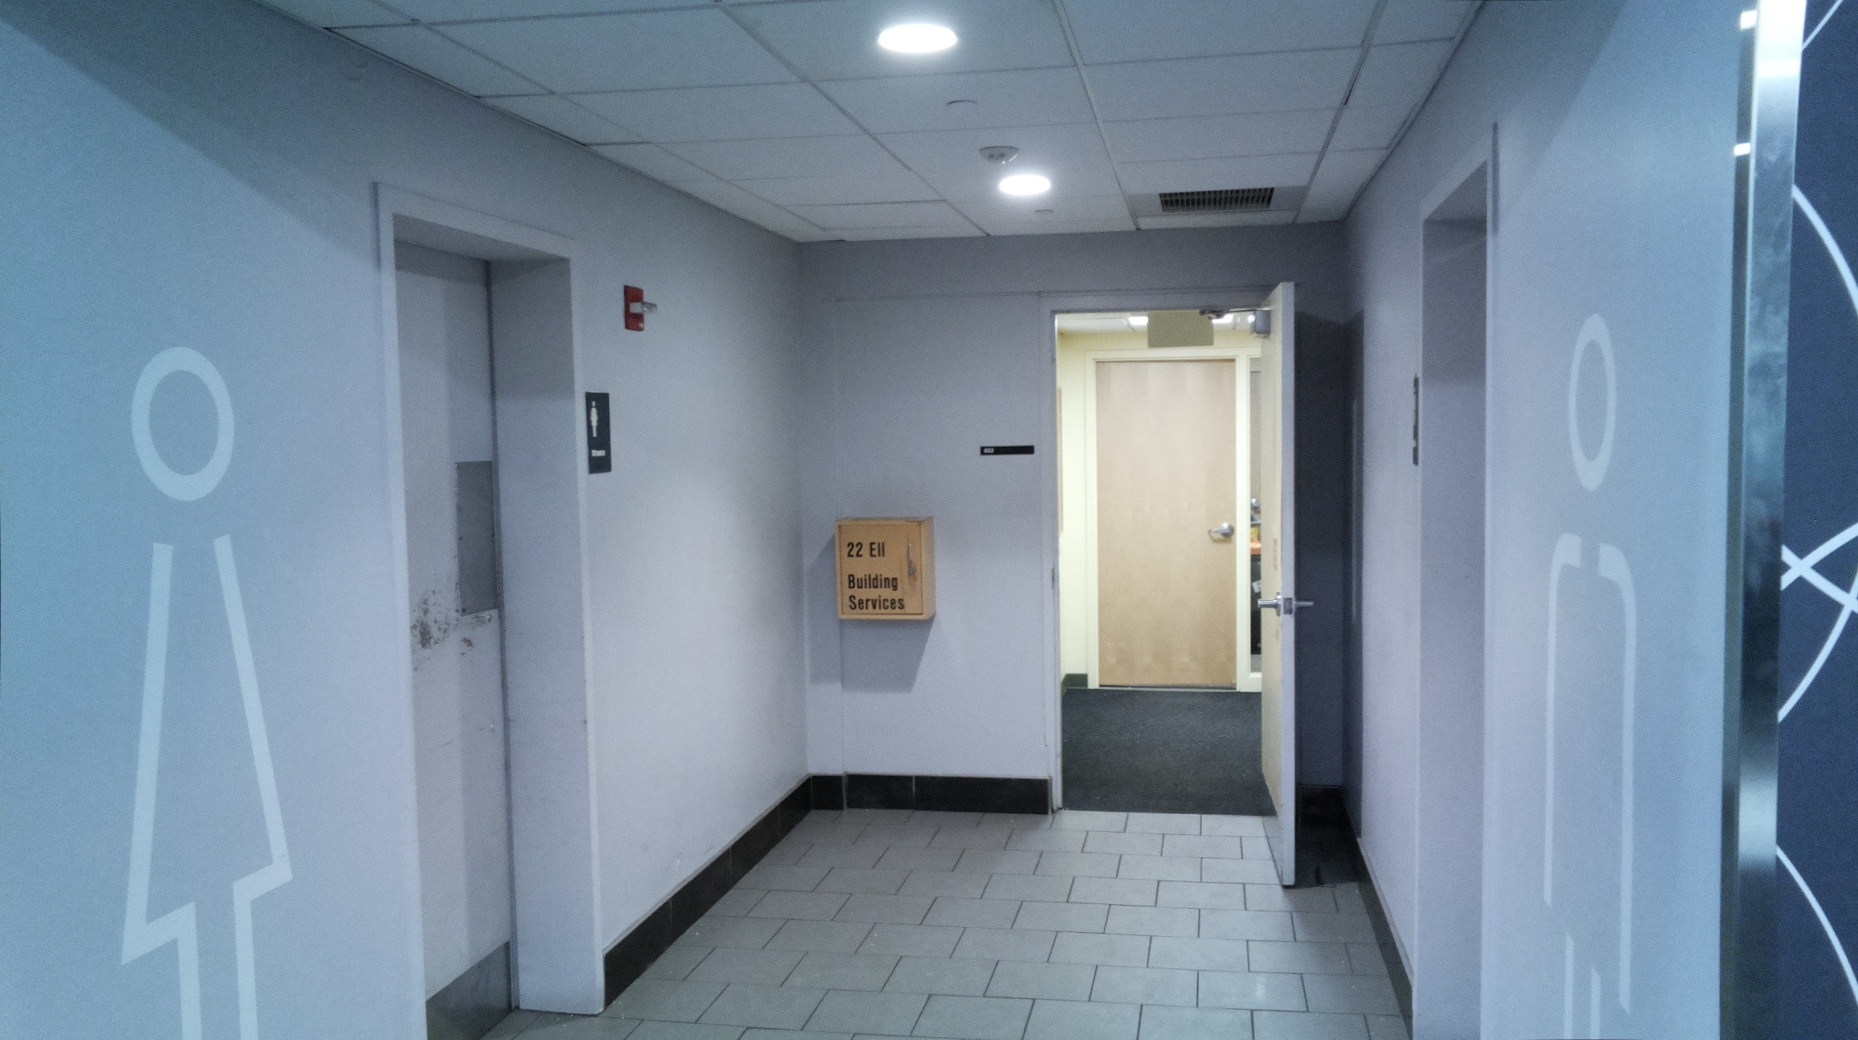bathroom sign: (581, 388, 618, 479)
